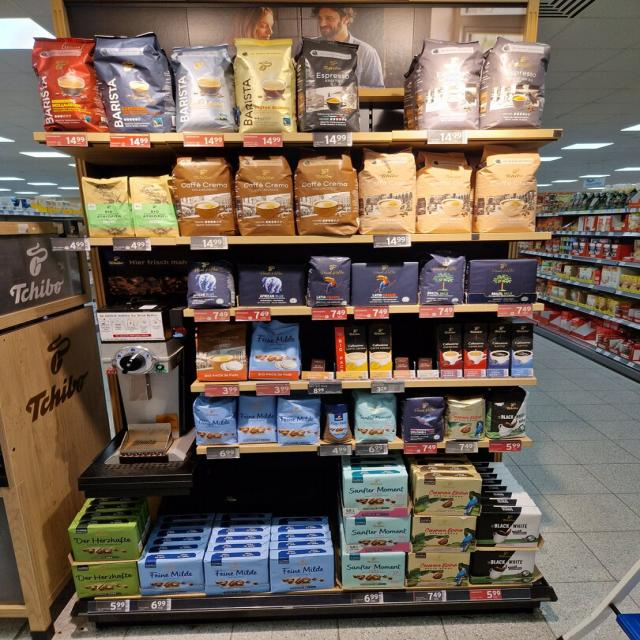AB Bohne: (185, 254, 234, 308)
AB Gemahlen: (238, 263, 304, 305)
Athiopien Gemahlen: (81, 176, 133, 238), (130, 175, 179, 238)
BM Bohne: (423, 251, 465, 304)
BM Gemahlen: (468, 260, 538, 304)
BW Bohne: (489, 392, 531, 440)
BW Gemahlen: (475, 511, 545, 549), (471, 548, 539, 584)
Barista CB: (233, 34, 297, 132)
Barista CC: (172, 41, 238, 132)
Barista Espresso: (96, 31, 172, 132)
Barista Kolumbien: (31, 33, 104, 130)
C Fino Bohne: (403, 397, 445, 443)
CC Mild: (478, 146, 542, 232), (360, 148, 418, 234), (418, 148, 474, 234)
CC Vollmundig: (195, 324, 247, 382)
CC Vollmundig 36 Pads: (294, 147, 358, 235), (235, 148, 295, 236), (174, 151, 234, 237)
Colombia BB Bohne: (446, 397, 487, 441)
Colombia BB Gemahlen: (413, 476, 483, 517), (411, 514, 477, 554), (407, 551, 472, 588)
Empty Shelf: (362, 41, 418, 130), (301, 326, 335, 372), (416, 322, 438, 370), (394, 324, 414, 370)
Espresso Kraftig: (299, 34, 362, 132)
Espresso M Art: (417, 34, 484, 131), (489, 33, 552, 128)
FM 36 Pads: (249, 321, 300, 381)
FM Bohne: (190, 396, 236, 446), (276, 397, 320, 445), (239, 396, 276, 444)
FM Gemahlen: (269, 552, 336, 595), (138, 557, 205, 597), (204, 557, 268, 596)
FM Instant: (323, 402, 353, 444)
Herzhatfe Mundig: (66, 524, 140, 562), (72, 560, 141, 600)
LG Bohne: (308, 253, 352, 306)
LG Gemahlen: (351, 261, 418, 305)
SM Bohne: (355, 392, 397, 442)
SM Gemahlen: (344, 473, 410, 517), (345, 516, 412, 554), (342, 551, 407, 589)
Simo CCMild: (334, 326, 367, 380)
Simo CCMild bigpack: (369, 324, 392, 378)
Simo Es Brazil: (464, 323, 487, 378)
Simo Es Caramel: (438, 324, 462, 379)
Simo Es Kraft: (488, 322, 510, 377)
Simo Es Vanilla: (512, 322, 534, 376)
